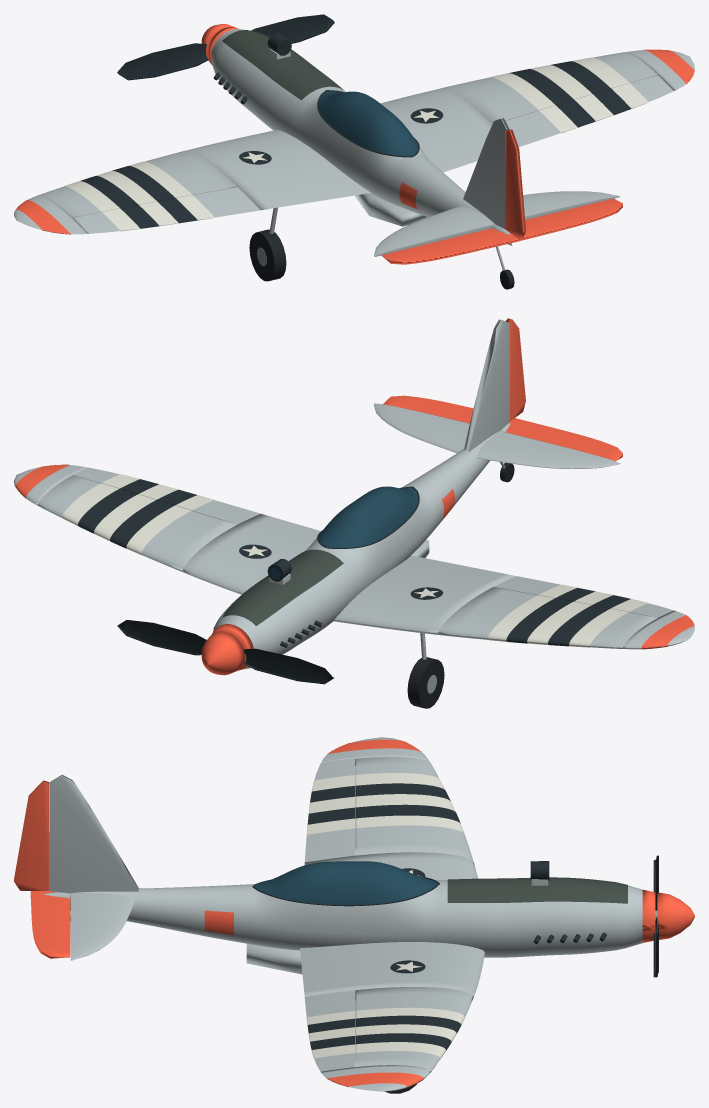
File: rift-a40.glb
3 views of the same model, one above another, from view 1: azimuth 30°, elevation 25°; view 2: azimuth 150°, elevation 25°; view 3: azimuth 270°, elevation 25° (orthographic). The views are drawn at different scales.
Parts seen in each view (by area): view 1: A40_static_shell_0, A40_static_shell_6, A40_static_shell_3, A40_elevator_skin, A40_static_shell_1, A40_propeller_blade (×2), A40_static_shell_2, A40_aileron_paint_1 (×5), A40_aileron_paint_-1 (×5), A40_static_shell_4, A40_aileron_skin_-1, A40_aileron_skin_1 (+2 smaller); view 2: A40_static_shell_0, A40_static_shell_6, A40_static_shell_3, A40_static_shell_1, A40_static_shell_4, A40_propeller_blade (×2), A40_static_shell_2, A40_elevator_skin, A40_static_shell_7, A40_rudder_skin, A40_aileron_skin_1, A40_aileron_skin_-1; view 3: A40_static_shell_0, A40_static_shell_6, A40_static_shell_1, A40_static_shell_3, A40_static_shell_4, A40_static_shell_2, A40_rudder_skin, A40_elevator_skin, A40_aileron_skin_-1, A40_aileron_skin_1, A40_aileron_paint_-1.
Boxes of the visible parts, x1=… form: A40_static_shell_0: x1=14, y1=29, x2=694, y2=256; A40_static_shell_6: x1=64, y1=57, x2=628, y2=211; A40_static_shell_3: x1=80, y1=33, x2=610, y2=207; A40_elevator_skin: x1=381, y1=198, x2=622, y2=264; A40_static_shell_1: x1=318, y1=91, x2=418, y2=156; A40_propeller_blade (×2): x1=117, y1=14, x2=334, y2=80; A40_static_shell_2: x1=222, y1=30, x2=343, y2=100; A40_aileron_paint_1 (×5): x1=539, y1=83, x2=648, y2=133; A40_aileron_paint_-1 (×5): x1=102, y1=195, x2=214, y2=231; A40_static_shell_4: x1=16, y1=24, x2=694, y2=234; A40_aileron_skin_-1: x1=73, y1=187, x2=260, y2=233; A40_aileron_skin_1: x1=505, y1=75, x2=673, y2=146; A40_static_shell_0: x1=14, y1=319, x2=694, y2=669; A40_static_shell_6: x1=62, y1=483, x2=628, y2=647; A40_static_shell_3: x1=78, y1=486, x2=610, y2=647; A40_static_shell_1: x1=269, y1=486, x2=418, y2=579; A40_static_shell_4: x1=15, y1=464, x2=694, y2=675; A40_propeller_blade (×2): x1=117, y1=620, x2=334, y2=684; A40_static_shell_2: x1=222, y1=549, x2=343, y2=625; A40_elevator_skin: x1=383, y1=395, x2=622, y2=461; A40_static_shell_7: x1=407, y1=462, x2=514, y2=708; A40_rudder_skin: x1=505, y1=318, x2=525, y2=421; A40_aileron_skin_1: x1=73, y1=467, x2=260, y2=524; A40_aileron_skin_-1: x1=494, y1=576, x2=673, y2=617; A40_static_shell_0: x1=43, y1=737, x2=642, y2=1091; A40_static_shell_6: x1=355, y1=772, x2=464, y2=1058; A40_static_shell_1: x1=254, y1=861, x2=437, y2=904; A40_static_shell_3: x1=252, y1=783, x2=606, y2=1050; A40_static_shell_4: x1=204, y1=739, x2=694, y2=1087; A40_static_shell_2: x1=447, y1=877, x2=627, y2=903; A40_rudder_skin: x1=14, y1=780, x2=49, y2=890; A40_elevator_skin: x1=30, y1=833, x2=70, y2=958; A40_aileron_skin_-1: x1=304, y1=759, x2=355, y2=862; A40_aileron_skin_1: x1=304, y1=990, x2=355, y2=1071; A40_aileron_paint_-1: x1=307, y1=807, x2=355, y2=824.
Size of the model in its own units: 0.4 by 0.1438 by 0.325.
